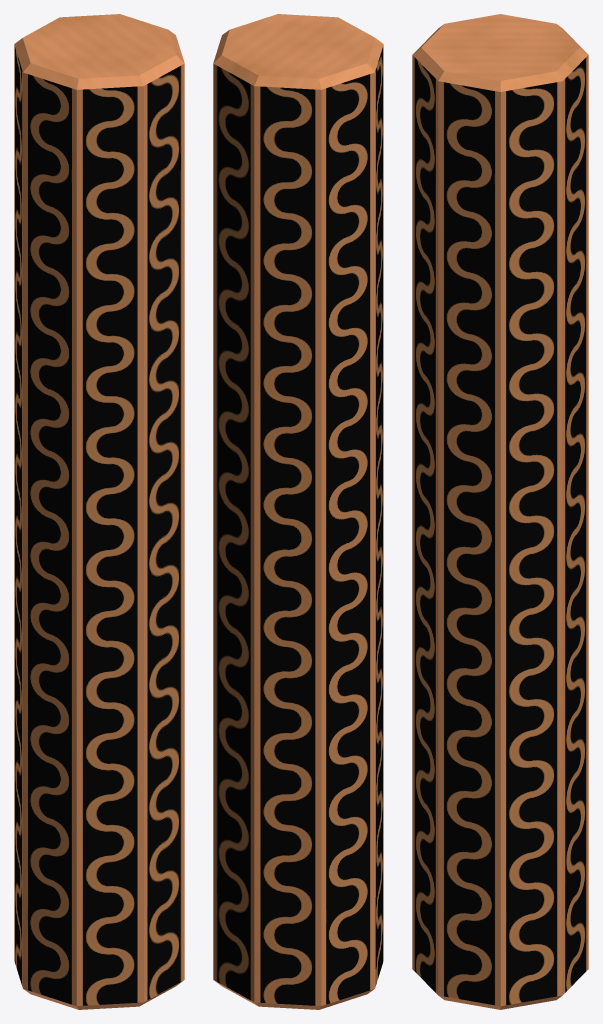
Rendered from M_Cardboard_RoundPIllar_05.fbx.
The picture shows the model from 3 angles, left to right: view 1: azimuth 30°, elevation 25°; view 2: azimuth 150°, elevation 25°; view 3: azimuth 270°, elevation 25°; orthographic projection.
Parts seen in each view (by area): view 1: pCylinder1; view 2: pCylinder1; view 3: pCylinder1.
Boxes of the visible parts, x1=… form: pCylinder1: x1=14, y1=14, x2=184, y2=1009; pCylinder1: x1=213, y1=14, x2=383, y2=1009; pCylinder1: x1=412, y1=14, x2=588, y2=1009.
Bounding box in the file's own units: 0.863 × 5.02 × 0.863.
1 material, 1 textured.
